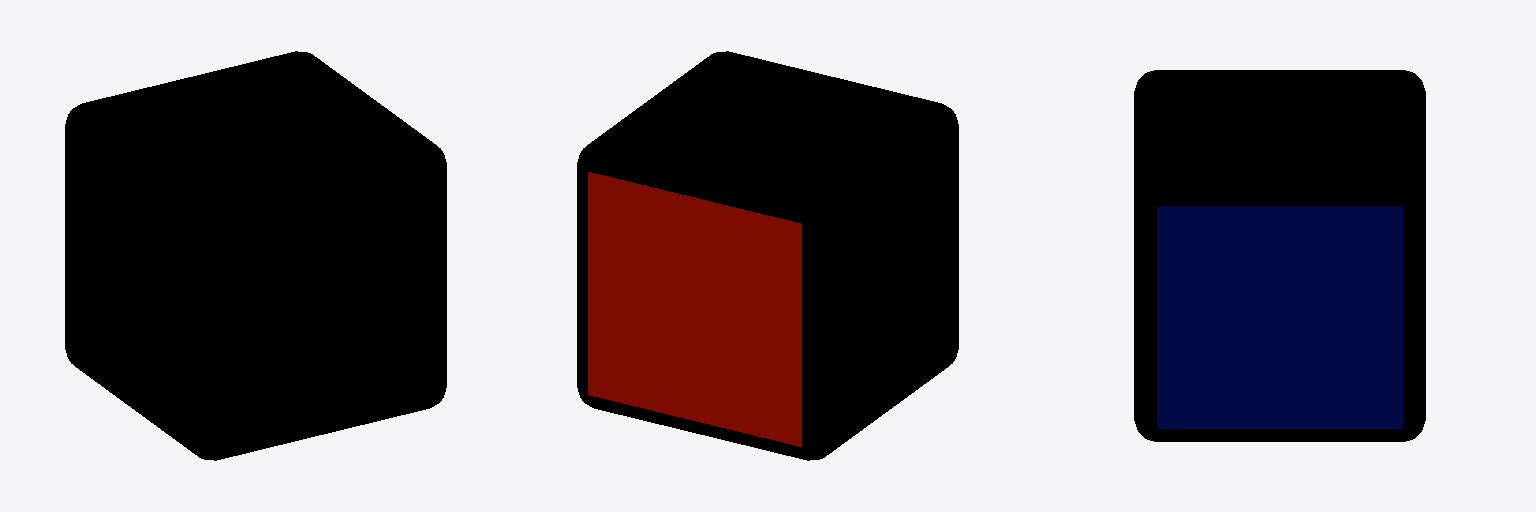
The model's file is piece_110.obj.
3 renders of one model, left to right at view 1: azimuth 30°, elevation 25°; view 2: azimuth 150°, elevation 25°; view 3: azimuth 270°, elevation 25°, orthographic.
Visible parts, largest first — view 1: Cube.012_Cube.013; view 2: Cube.012_Cube.013; view 3: Cube.012_Cube.013.
Boxes of the visible parts, x1=… form: Cube.012_Cube.013: x1=65, y1=51, x2=446, y2=460; Cube.012_Cube.013: x1=577, y1=51, x2=958, y2=460; Cube.012_Cube.013: x1=1134, y1=70, x2=1425, y2=441.
Size of the model in its own units: 2 by 2 by 2.